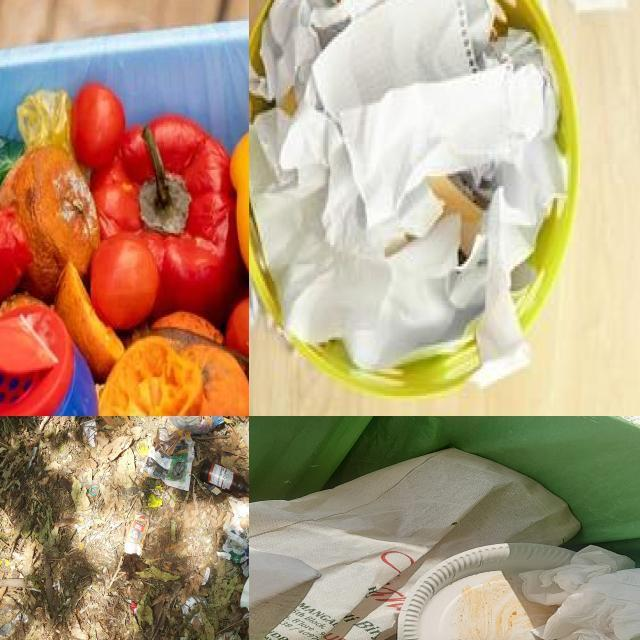Cig_pack: (125, 513, 149, 556)
Disposable: (182, 596, 206, 616), (190, 612, 202, 625)
Garbage: (249, 0, 633, 398), (0, 72, 249, 416), (249, 449, 640, 640), (0, 416, 249, 640)
Glass_bottle: (200, 459, 249, 498)
Paper: (249, 0, 567, 385)
Plastic: (399, 543, 572, 640)
Plastic_Bag: (0, 612, 28, 639), (0, 614, 21, 639), (0, 604, 16, 614), (0, 604, 16, 612)
Plastic_bottle: (0, 302, 97, 416)
Plastic_wraper: (148, 493, 162, 508), (130, 602, 137, 614), (156, 485, 162, 490)
